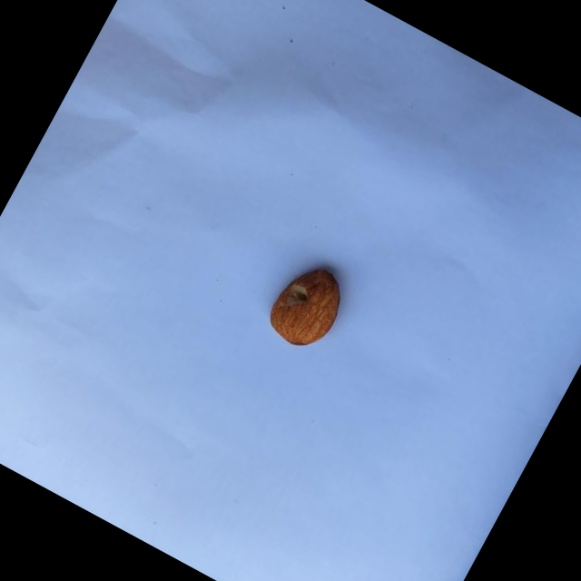grade3: (255, 250, 358, 361)
